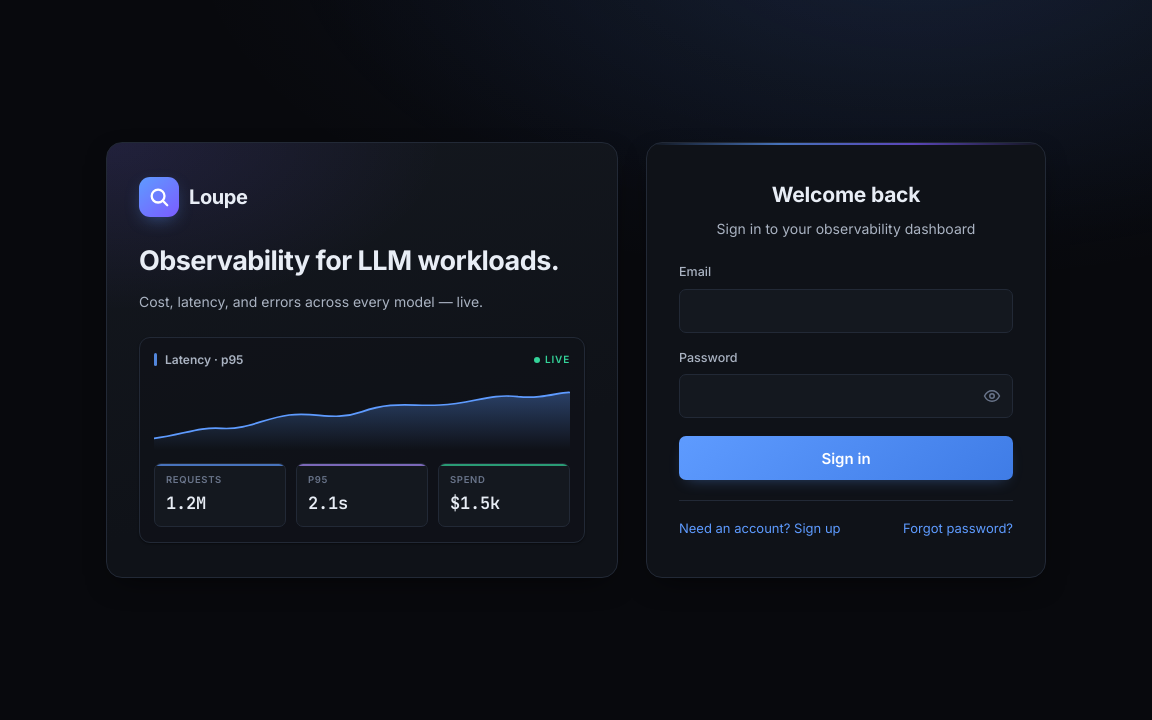
it: LoginPage (Supabase mode) › toggles to sign-up and shows the confirmation notice when required
Click the button "Need an account? Sign up": (760, 529) [679,519,840,539]
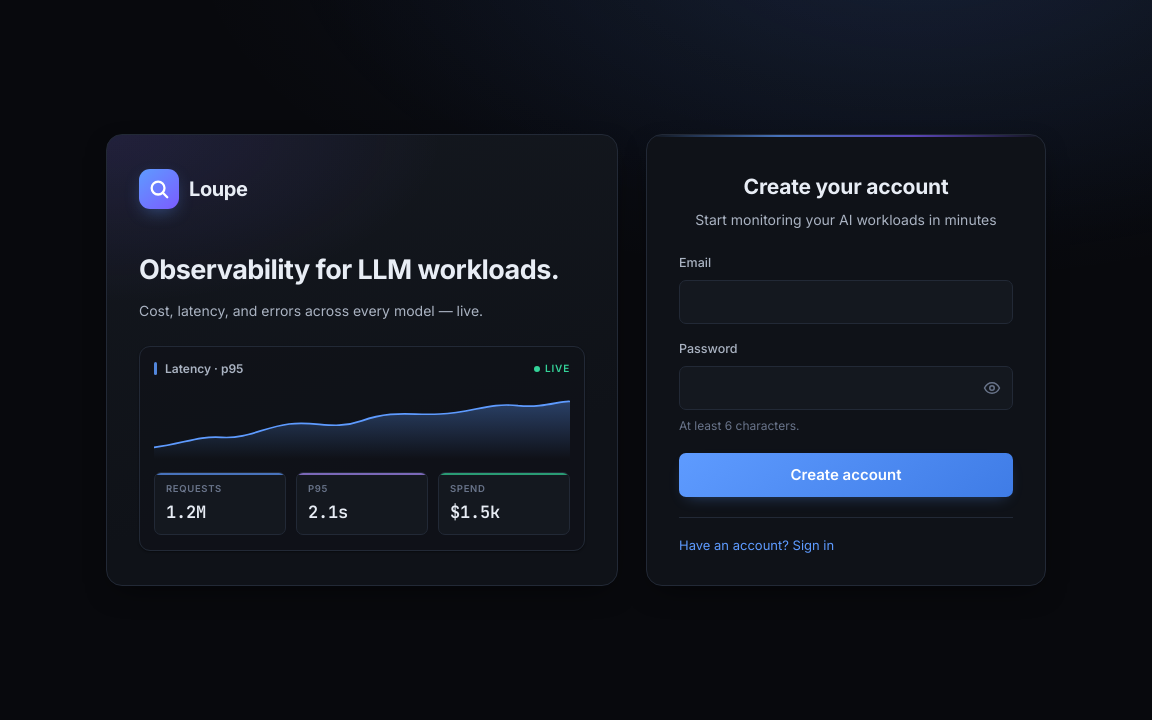
expect the button "Create account" is shown: met, box [679,453,1013,497]
In the field labelled "Email": (846, 302) [679,280,1013,324], type "new@example.com"
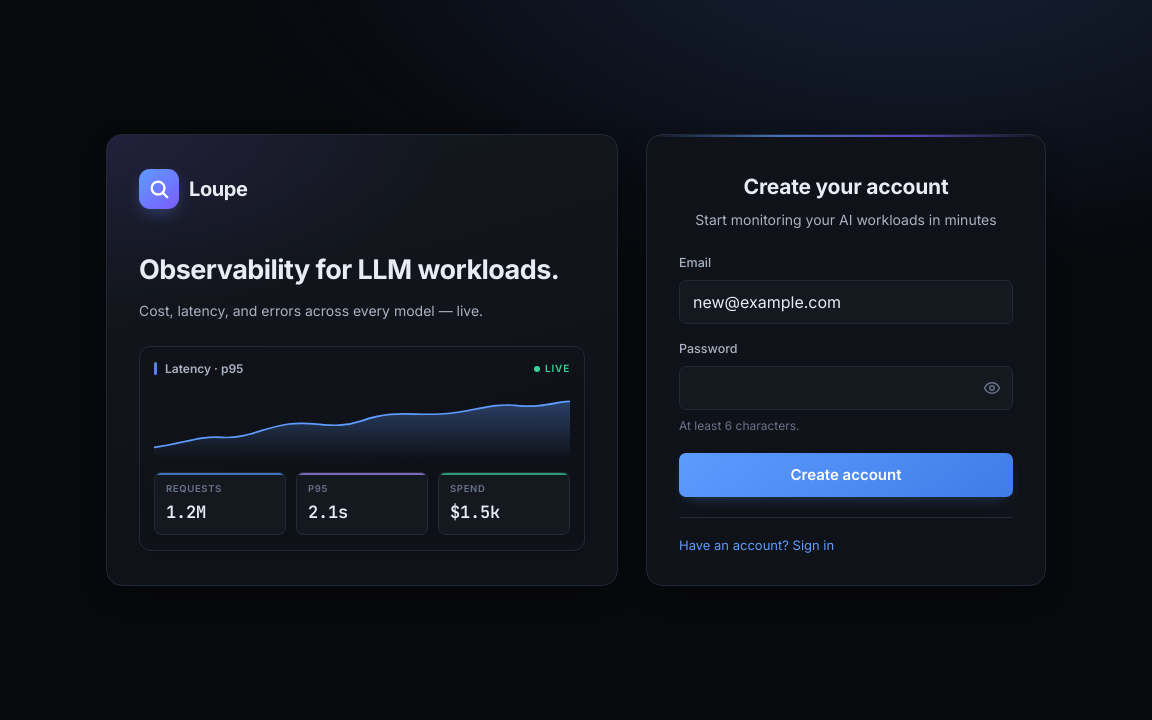
In the password field labelled "Password": (846, 388) [679,366,1013,410], type "hunter2"
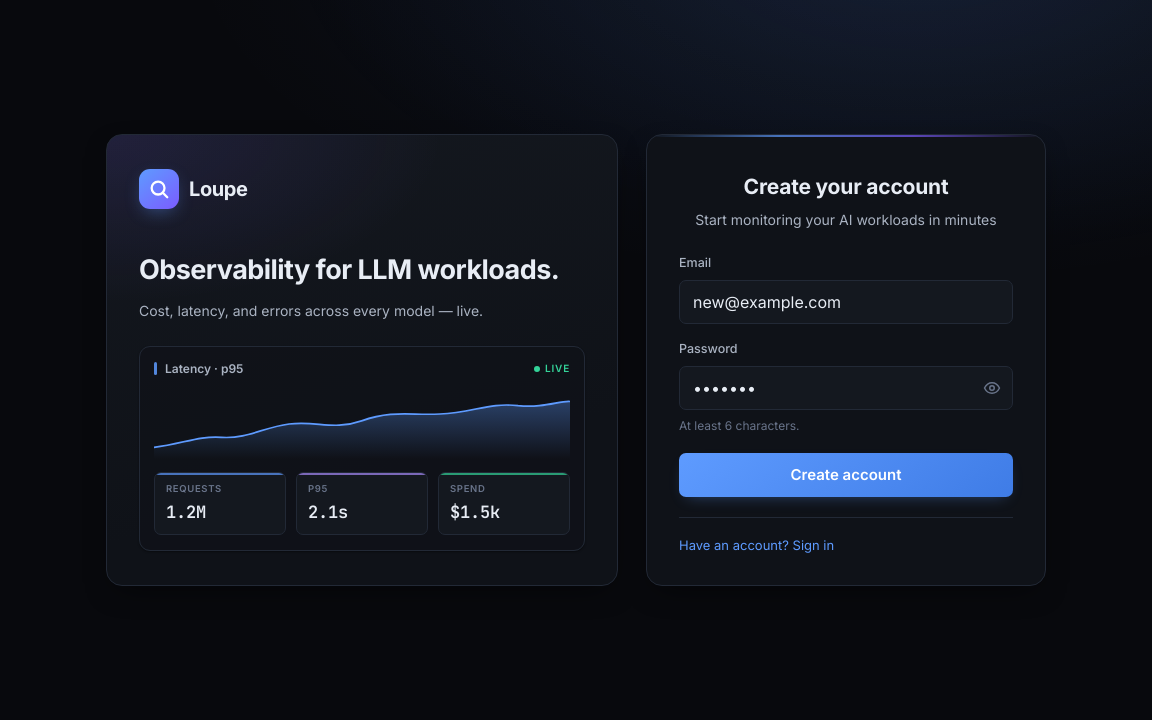
Click the button "Create account": (846, 475) [679,453,1013,497]
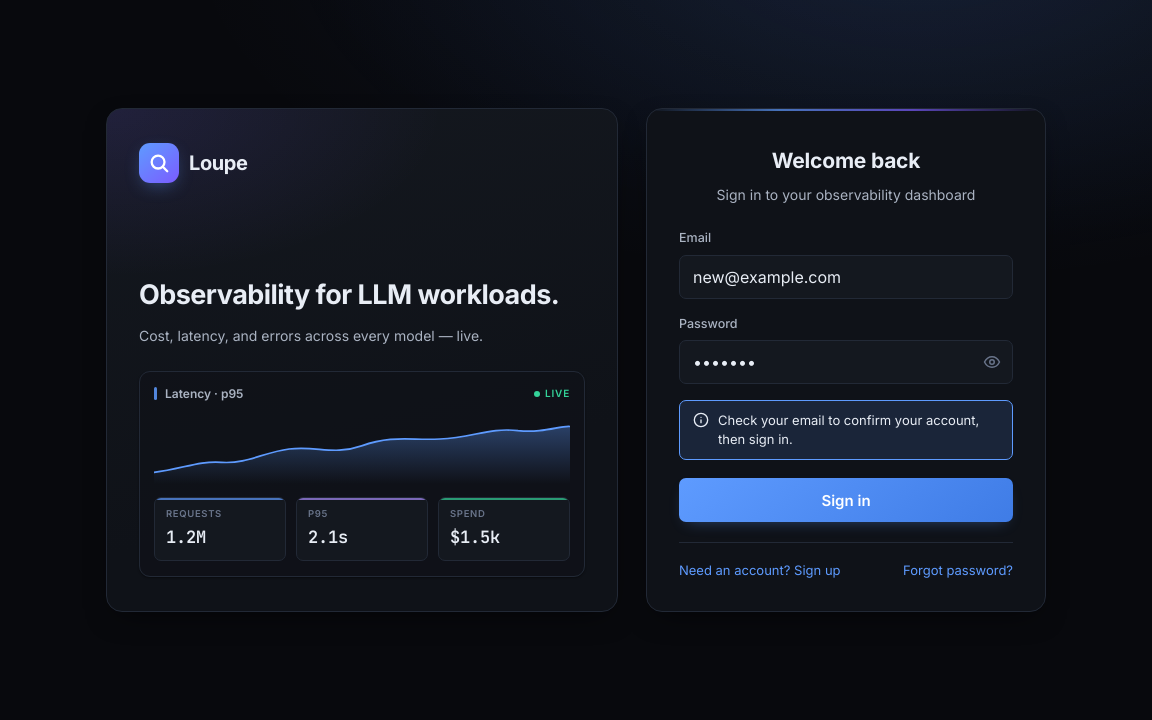
expect the text "Check your email to confirm your account, then sign in." is shown: met, box [718,411,999,449]
